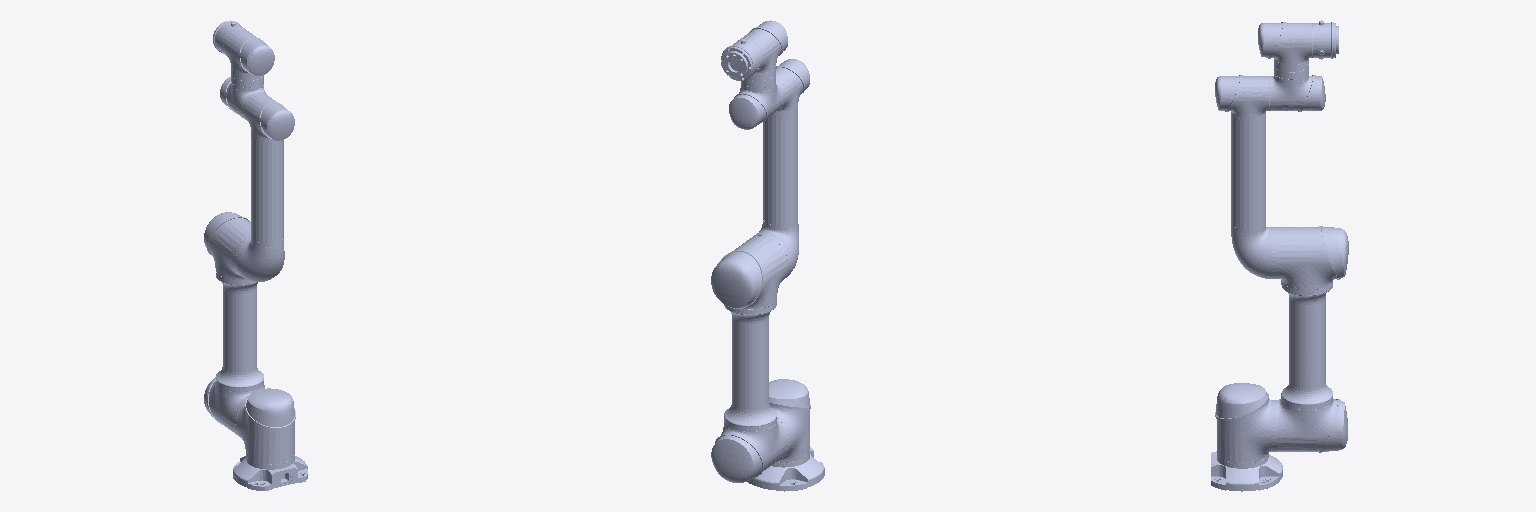
The robot description file, URDF, robot "duco_gcr5_910_urdf":
<?xml version="1.0" encoding="utf-8"?>
<!-- This URDF was automatically created by SolidWorks to URDF Exporter! Originally created by [author] ([email redacted]) 
     Commit Version: 1.6.0-4-g7f85cfe  Build Version: 1.6.7995.38578
     For more information, please see http://wiki.ros.org/sw_urdf_exporter -->
<robot
  name="duco_gcr5_910_urdf">
  <link name="rotated_base"/>  <!-- dummy root frame -->
  <joint name="base_rotation" type="fixed">
    <parent link="rotated_base"/>
    <child link="base_link"/>
    <origin rpy="0 0 -1.5708" xyz="0 0 0"/>  <!-- -90° in radians -->
  </joint>
  <link
    name="base_link">
    <inertial>
      <origin
        xyz="-0.00404865240257839 0.0198244231719463 -2.12214937475772E-05"
        rpy="0 0 0" />
      <mass
        value="0.729857387154036" />
      <inertia
        ixx="0.0013739098152086"
        ixy="-2.29528040086667E-05"
        ixz="4.44203950037754E-06"
        iyy="0.00232503532405019"
        iyz="-2.05595022856958E-07"
        izz="0.00115595774024397" />
    </inertial>
    <visual>
      <origin
        xyz="0 0 0"
        rpy="0 0 0" />
      <geometry>
        <mesh
          filename="package://duco_gcr5_910_urdf/meshes/base_link.STL" />
      </geometry>
      <material
        name="">
        <color
          rgba="0.792156862745098 0.819607843137255 0.933333333333333 1" />
      </material>
    </visual>
    <collision>
      <origin
        xyz="0 0 0"
        rpy="0 0 0" />
      <geometry>
        <mesh
          filename="package://duco_gcr5_910_urdf/meshes/base_link.STL" />
      </geometry>
    </collision>
  </link>
  <link
    name="link1">
    <inertial>
      <origin
        xyz="0.118567570760599 0.0138158311105798 7.82313711048054E-07"
        rpy="0 0 0" />
      <mass
        value="0.424385093655344" />
      <inertia
        ixx="0.00100544458550602"
        ixy="-7.22021709928097E-05"
        ixz="-4.12551874446929E-09"
        iyy="0.000748014171707252"
        iyz="-1.87143171821543E-08"
        izz="0.000757773817375614" />
    </inertial>
    <visual>
      <origin
        xyz="0 0 0"
        rpy="0 0 0" />
      <geometry>
        <mesh
          filename="package://duco_gcr5_910_urdf/meshes/link1.STL" />
      </geometry>
      <material
        name="">
        <color
          rgba="0.792156862745098 0.819607843137255 0.933333333333333 1" />
      </material>
    </visual>
    <collision>
      <origin
        xyz="0 0 0"
        rpy="0 0 0" />
      <geometry>
        <mesh
          filename="package://duco_gcr5_910_urdf/meshes/link1.STL" />
      </geometry>
    </collision>
  </link>
  <joint
    name="joint1"
    type="continuous">
    <origin
      xyz="0 0 0"
      rpy="1.5707963267949 -1.5707963267949 0" />
    <parent
      link="base_link" />
    <child
      link="link1" />
    <axis
      xyz="1 0 0" />
  </joint>
  <link
    name="link2">
    <inertial>
      <origin
        xyz="0.134183947911483 0.212437906522792 2.31820817047102E-06"
        rpy="0 0 0" />
      <mass
        value="1.1009274409569" />
      <inertia
        ixx="0.0055456395347035"
        ixy="7.62961559668095E-08"
        ixz="-2.14049084739424E-08"
        iyy="0.00196578079804957"
        iyz="-1.79428640279421E-08"
        izz="0.00501514572024218" />
    </inertial>
    <visual>
      <origin
        xyz="0 0 0"
        rpy="0 0 0" />
      <geometry>
        <mesh
          filename="package://duco_gcr5_910_urdf/meshes/link2.STL" />
      </geometry>
      <material
        name="">
        <color
          rgba="0.792156862745098 0.819607843137255 0.933333333333333 1" />
      </material>
    </visual>
    <collision>
      <origin
        xyz="0 0 0"
        rpy="0 0 0" />
      <geometry>
        <mesh
          filename="package://duco_gcr5_910_urdf/meshes/link2.STL" />
      </geometry>
    </collision>
  </link>
  <joint
    name="joint2"
    type="continuous">
    <origin
      xyz="0.122 0.0052441786897741 0"
      rpy="3.14159265358979 0 1.5707963267949" />
    <parent
      link="link1" />
    <child
      link="link2" />
    <axis
      xyz="1 0 0" />
  </joint>
  <link
    name="link3">
    <inertial>
      <origin
        xyz="0.0113516317961539 0.205293059413378 6.72059695834408E-07"
        rpy="0 0 0" />
      <mass
        value="0.330047321805258" />
      <inertia
        ixx="0.00115279796036324"
        ixy="3.99615005743179E-06"
        ixz="-2.56815270522183E-09"
        iyy="0.000492028306999432"
        iyz="6.85834293348772E-09"
        izz="0.00111415925904173" />
    </inertial>
    <visual>
      <origin
        xyz="0 0 0"
        rpy="0 0 0" />
      <geometry>
        <mesh
          filename="package://duco_gcr5_910_urdf/meshes/link3.STL" />
      </geometry>
      <material
        name="">
        <color
          rgba="0.792156862745098 0.819607843137255 0.933333333333333 1" />
      </material>
    </visual>
    <collision>
      <origin
        xyz="0 0 0"
        rpy="0 0 0" />
      <geometry>
        <mesh
          filename="package://duco_gcr5_910_urdf/meshes/link3.STL" />
      </geometry>
    </collision>
  </link>
  <joint
    name="joint3"
    type="continuous">
    <origin
      xyz="0 0.425000000002073 0"
      rpy="0 0 0" />
    <parent
      link="link2" />
    <child
      link="link3" />
    <axis
      xyz="1 0 0" />
  </joint>
  <link
    name="link4">
    <inertial>
      <origin
        xyz="-0.0258799818041116 -0.0924706939539425 -2.19691744333841E-06"
        rpy="0 0 0" />
      <mass
        value="0.165023508277068" />
      <inertia
        ixx="0.000186694412962851"
        ixy="-1.53095845611684E-05"
        ixz="2.75842761285596E-09"
        iyy="0.000162480388600535"
        iyz="-7.90196252051589E-10"
        izz="0.000151979522541323" />
    </inertial>
    <visual>
      <origin
        xyz="0 0 0"
        rpy="0 0 0" />
      <geometry>
        <mesh
          filename="package://duco_gcr5_910_urdf/meshes/link4.STL" />
      </geometry>
      <material
        name="">
        <color
          rgba="0.792156862745098 0.819607843137255 0.933333333333333 1" />
      </material>
    </visual>
    <collision>
      <origin
        xyz="0 0 0"
        rpy="0 0 0" />
      <geometry>
        <mesh
          filename="package://duco_gcr5_910_urdf/meshes/link4.STL" />
      </geometry>
    </collision>
  </link>
  <joint
    name="joint4"
    type="continuous">
    <origin
      xyz="0.018076 0.392 0"
      rpy="3.1416 0 -1.5708" />
    <parent
      link="link3" />
    <child
      link="link4" />
    <axis
      xyz="0 -1 0" />
  </joint>
  <link
    name="link5">
    <inertial>
      <origin
        xyz="-1.94384120312198E-06 -0.00700056668485562 -0.113976527728292"
        rpy="0 0 0" />
      <mass
        value="0.148290193529033" />
      <inertia
        ixx="0.000138012123695848"
        ixy="-3.19096354371036E-09"
        ixz="-8.91486110338573E-10"
        iyy="0.000148488146672156"
        iyz="1.53048362477331E-05"
        izz="0.000163210791571703" />
    </inertial>
    <visual>
      <origin
        xyz="0 0 0"
        rpy="0 0 0" />
      <geometry>
        <mesh
          filename="package://duco_gcr5_910_urdf/meshes/link5.STL" />
      </geometry>
      <material
        name="">
        <color
          rgba="0.792156862745098 0.819607843137255 0.933333333333333 1" />
      </material>
    </visual>
    <collision>
      <origin
        xyz="0 0 0"
        rpy="0 0 0" />
      <geometry>
        <mesh
          filename="package://duco_gcr5_910_urdf/meshes/link5.STL" />
      </geometry>
    </collision>
  </link>
  <joint
    name="joint5"
    type="continuous">
    <origin
      xyz="-0.0027576 -0.08618 0"
      rpy="3.1416 -1.5708 0" />
    <parent
      link="link4" />
    <child
      link="link5" />
    <axis
      xyz="0 0 -1" />
  </joint>
  <link
    name="link6">
    <inertial>
      <origin
        xyz="2.34165896569554E-05 -0.0266268928917058 6.87422856384678E-05"
        rpy="0 0 0" />
      <mass
        value="0.270719809445498" />
      <inertia
        ixx="0.000141068608434019"
        ixy="3.17358160794649E-10"
        ixz="-1.97887421997623E-09"
        iyy="0.000209132460882027"
        iyz="9.39235484158471E-08"
        izz="0.000140908406562175" />
    </inertial>
    <visual>
      <origin
        xyz="0 0 0"
        rpy="0 0 0" />
      <geometry>
        <mesh
          filename="package://duco_gcr5_910_urdf/meshes/link6.STL" />
      </geometry>
      <material
        name="">
        <color
          rgba="0.792156862745098 0.819607843137255 0.933333333333333 1" />
      </material>
    </visual>
    <collision>
      <origin
        xyz="0 0 0"
        rpy="0 0 0" />
      <geometry>
        <mesh
          filename="package://duco_gcr5_910_urdf/meshes/link6.STL" />
      </geometry>
    </collision>
  </link>
  <joint
    name="joint6"
    type="continuous">
    <origin
      xyz="0 0.047999999999999 -0.128242442033315"
      rpy="0 0 -3.14159265358979" />
    <parent
      link="link5" />
    <child
      link="link6" />
    <axis
      xyz="0 -1 0" />
  </joint>
</robot>

--- Render facts (derived) ---
The picture shows the robot from 3 angles, left to right: view 1: azimuth 30°, elevation 25°; view 2: azimuth 150°, elevation 25°; view 3: azimuth 270°, elevation 25°; orthographic projection.
Model duco_gcr5_910_urdf with 8 links and 7 joints (6 continuous, 1 fixed), rooted at rotated_base, posed all joints at 0.
Links seen in each view (by area): view 1: link2, link3, link1, link5, base_link, link4; view 2: link2, link3, link1, link4, base_link, link5, link6; view 3: link2, link3, link1, link4, link5, base_link, link6.
Link boxes in pixels (x1=…): link2: x1=204, y1=212, x2=264, y2=437; link3: x1=236, y1=93, x2=294, y2=281; link1: x1=236, y1=388, x2=295, y2=469; link5: x1=223, y1=28, x2=274, y2=77; base_link: x1=233, y1=456, x2=307, y2=490; link4: x1=220, y1=72, x2=265, y2=119; link2: x1=711, y1=233, x2=791, y2=482; link3: x1=756, y1=59, x2=809, y2=277; link1: x1=769, y1=379, x2=810, y2=467; link4: x1=729, y1=72, x2=784, y2=129; base_link: x1=747, y1=447, x2=824, y2=491; link5: x1=738, y1=20, x2=787, y2=76; link6: x1=721, y1=39, x2=762, y2=80; link2: x1=1272, y1=226, x2=1348, y2=452; link3: x1=1215, y1=75, x2=1271, y2=278; link1: x1=1215, y1=383, x2=1271, y2=468; link4: x1=1270, y1=63, x2=1325, y2=111; link5: x1=1258, y1=22, x2=1312, y2=68; base_link: x1=1211, y1=451, x2=1282, y2=491; link6: x1=1313, y1=20, x2=1338, y2=59.
Size in the robot's own frame: 0.18 by 0.3068 by 1.12 metres.
7 mesh visuals loaded from 7 distinct referenced files (7 binary STL).